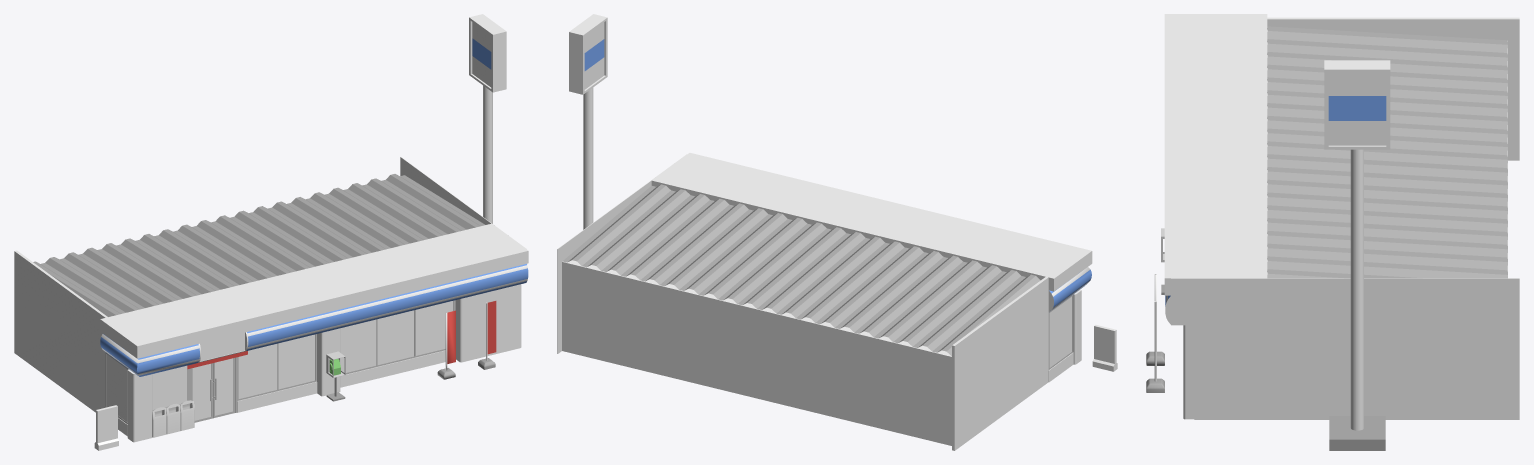
Rendered from conbini.fbx.
3 views of the same model, side by side, from view 1: azimuth 30°, elevation 25°; view 2: azimuth 150°, elevation 25°; view 3: azimuth 270°, elevation 25° (orthographic). The views are drawn at different scales.
Visible parts, largest first — view 1: Plane.027, Plane.020, Plane.022, Plane.029, Cube.006, Cube.003, Plane.001, Plane.009, Cube.002, Plane.011, Plane.010, Plane.012 (+12 smaller); view 2: Plane.027, Plane.021, Plane.020, Plane.022, Cube.006, Plane.019, Plane.017, Cube.007, Plane.029, Cube.002; view 3: Plane.027, Plane.019, Plane.020, Cube.006, Plane.022, Cube.003, Plane.026.
Boxes of the visible parts, x1=… form: Plane.027: x1=33, y1=174, x2=484, y2=316; Plane.020: x1=100, y1=223, x2=528, y2=358; Plane.022: x1=14, y1=250, x2=107, y2=412; Plane.029: x1=100, y1=264, x2=528, y2=376; Cube.006: x1=469, y1=14, x2=506, y2=223; Cube.003: x1=455, y1=284, x2=521, y2=362; Plane.001: x1=192, y1=358, x2=233, y2=420; Plane.009: x1=238, y1=344, x2=276, y2=398; Cube.002: x1=127, y1=369, x2=152, y2=442; Plane.011: x1=377, y1=310, x2=413, y2=364; Plane.010: x1=278, y1=334, x2=314, y2=388; Plane.012: x1=340, y1=319, x2=375, y2=372; Plane.027: x1=562, y1=184, x2=1040, y2=356; Plane.021: x1=562, y1=260, x2=951, y2=445; Plane.020: x1=651, y1=153, x2=1092, y2=311; Plane.022: x1=952, y1=277, x2=1048, y2=450; Cube.006: x1=569, y1=14, x2=607, y2=229; Plane.019: x1=557, y1=154, x2=686, y2=353; Plane.017: x1=1049, y1=297, x2=1071, y2=367; Cube.007: x1=1092, y1=324, x2=1117, y2=371; Plane.029: x1=1049, y1=267, x2=1091, y2=311; Cube.002: x1=1073, y1=289, x2=1081, y2=364; Plane.027: x1=1267, y1=26, x2=1507, y2=278; Plane.019: x1=1171, y1=278, x2=1519, y2=419; Plane.020: x1=1164, y1=14, x2=1267, y2=295; Cube.006: x1=1324, y1=60, x2=1390, y2=450; Plane.022: x1=1267, y1=17, x2=1519, y2=160; Cube.003: x1=1183, y1=325, x2=1194, y2=419; Plane.026: x1=1146, y1=301, x2=1164, y2=392.
Bounding box in the file's own units: 17.01 × 9.36 × 8.46.
